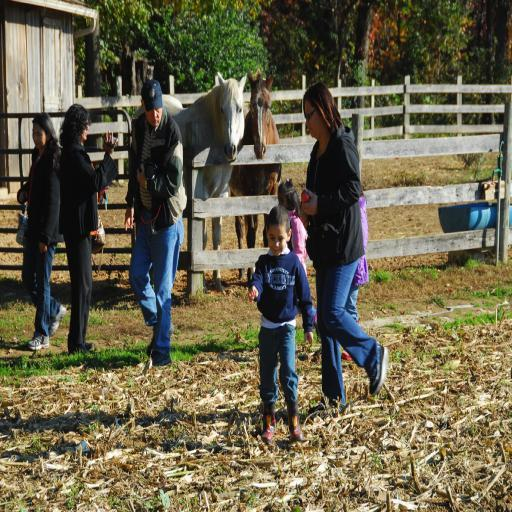Horse: (132, 68, 246, 289), (226, 64, 283, 285)
